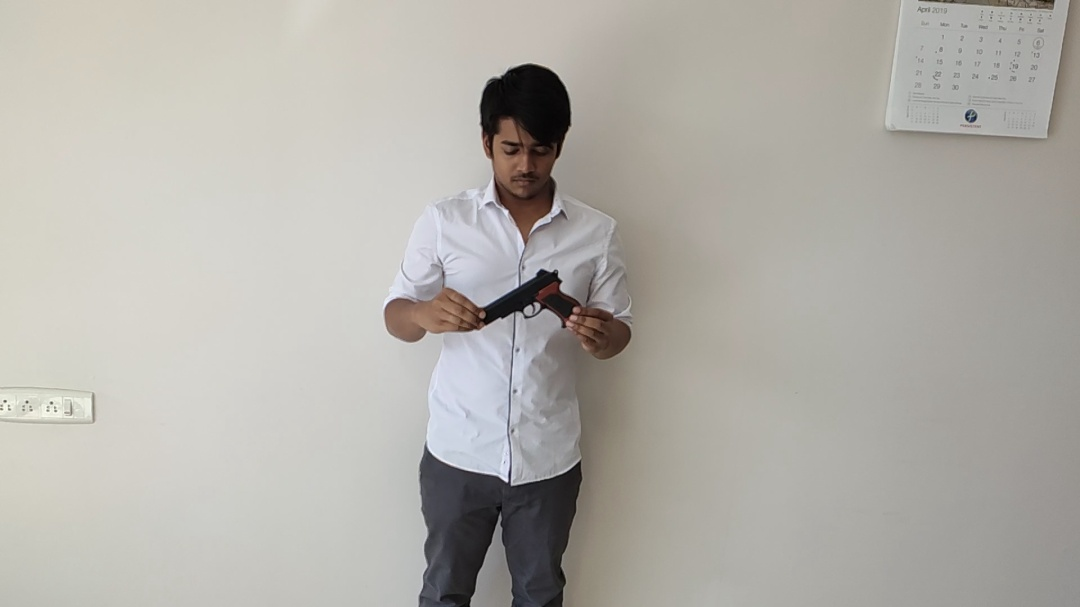gun: (486, 267, 582, 327)
